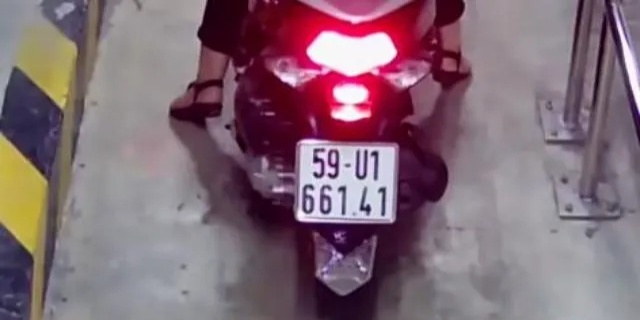bien_so: (293, 139, 400, 226)
